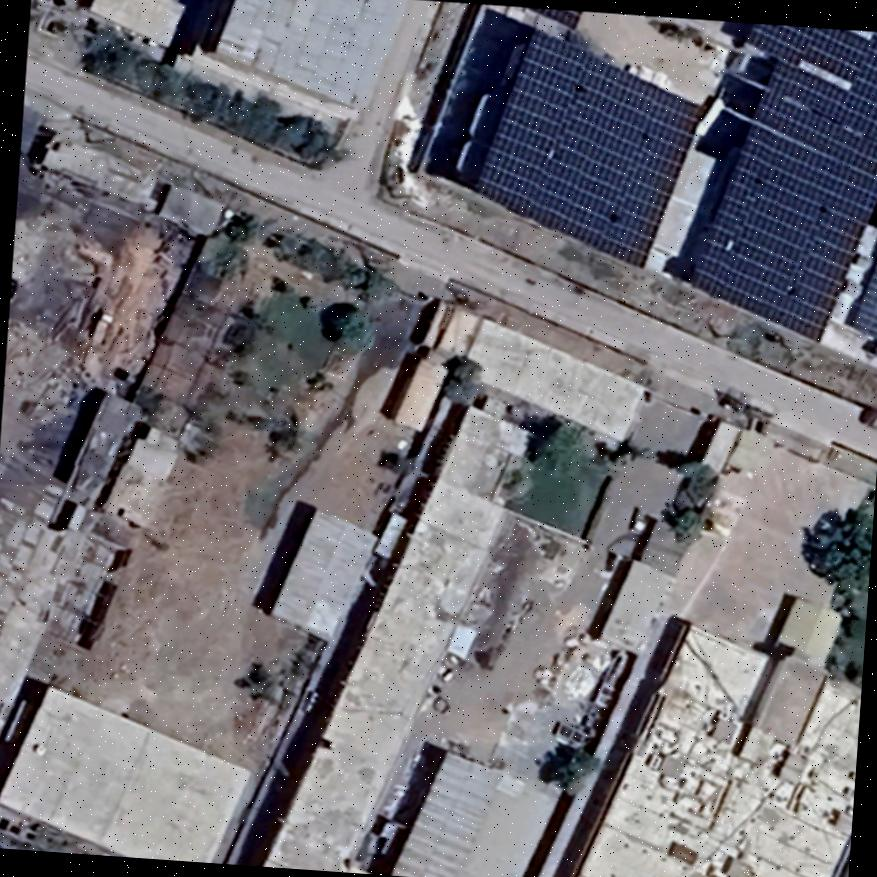Solarpanel: (682, 21, 877, 350), (467, 24, 704, 269), (845, 253, 877, 337), (531, 7, 582, 27)
